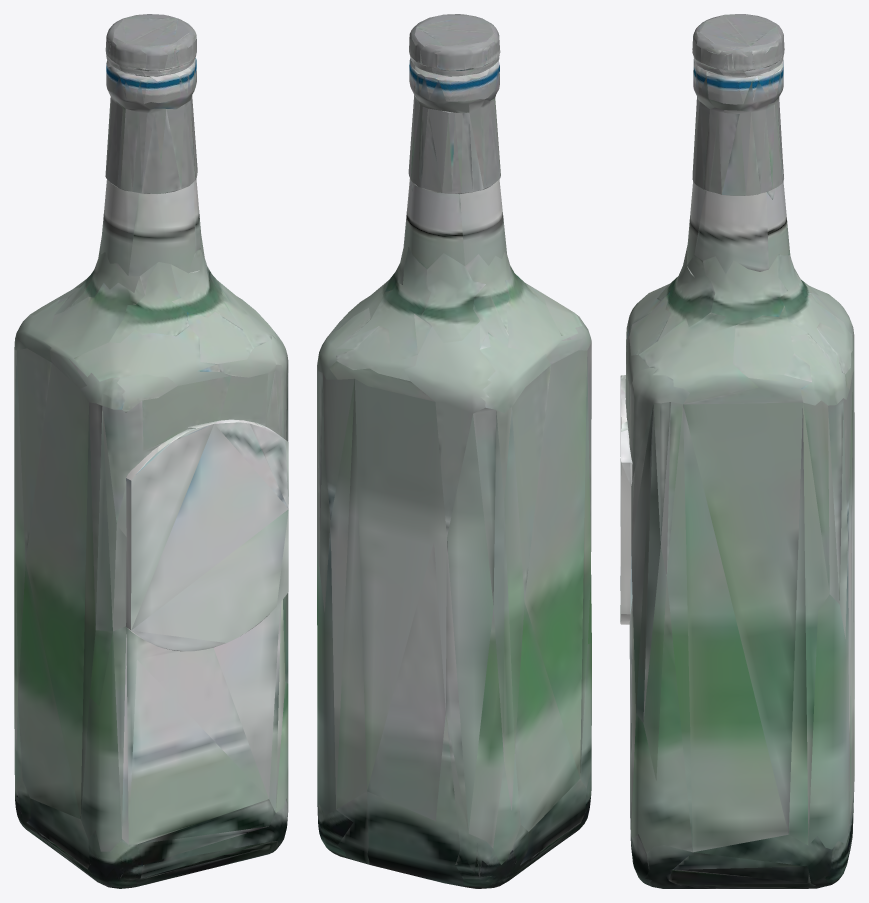
File: rum-gin.glb
3 views of the same model, side by side, from view 1: azimuth 30°, elevation 25°; view 2: azimuth 150°, elevation 25°; view 3: azimuth 270°, elevation 25° (orthographic).
Size of the model in its own units: 0.4817 by 1.9 by 0.4922.
1 material, 1 textured.
